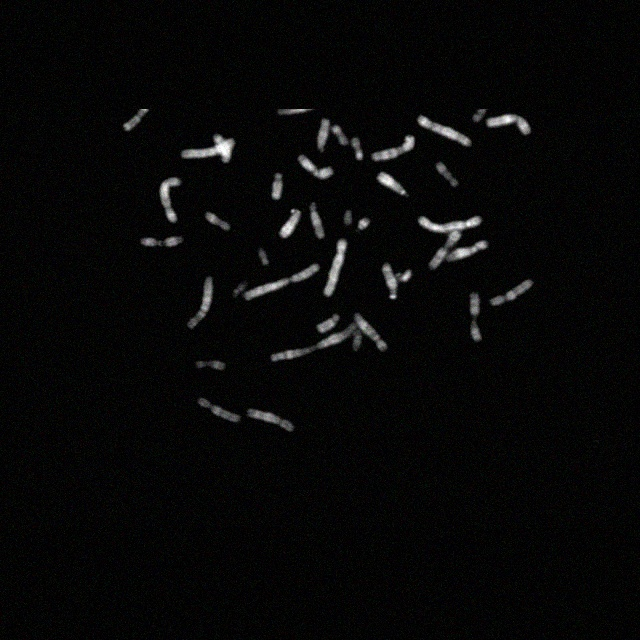chromosome: (272, 318, 364, 362), (245, 262, 319, 300), (418, 115, 470, 146), (187, 275, 213, 329), (323, 238, 347, 296), (354, 313, 386, 352), (246, 408, 294, 434), (429, 230, 461, 268), (180, 138, 234, 160), (490, 279, 532, 307), (419, 214, 481, 232), (486, 114, 530, 138), (372, 136, 416, 160), (446, 241, 488, 265), (198, 398, 240, 422), (296, 153, 334, 179), (160, 178, 182, 222), (468, 292, 482, 342), (378, 171, 406, 195), (123, 108, 149, 132), (280, 208, 300, 238), (309, 202, 325, 238), (381, 262, 397, 298), (142, 234, 183, 248), (437, 162, 458, 186), (205, 212, 230, 232), (315, 120, 329, 152), (215, 134, 230, 162), (316, 314, 339, 332), (196, 358, 224, 372), (271, 172, 283, 200), (332, 125, 348, 145), (351, 138, 364, 160), (396, 268, 412, 284), (231, 280, 247, 296), (350, 331, 360, 355), (257, 248, 269, 264), (358, 216, 370, 230), (343, 210, 353, 226)
